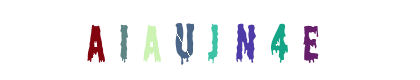4: (216, 0, 296, 80)
A: (55, 0, 135, 80), (132, 0, 212, 80)
E: (257, 0, 337, 80)
I: (130, 0, 210, 80)
J: (170, 0, 250, 80)
N: (205, 0, 285, 80)
U: (169, 0, 249, 80)
